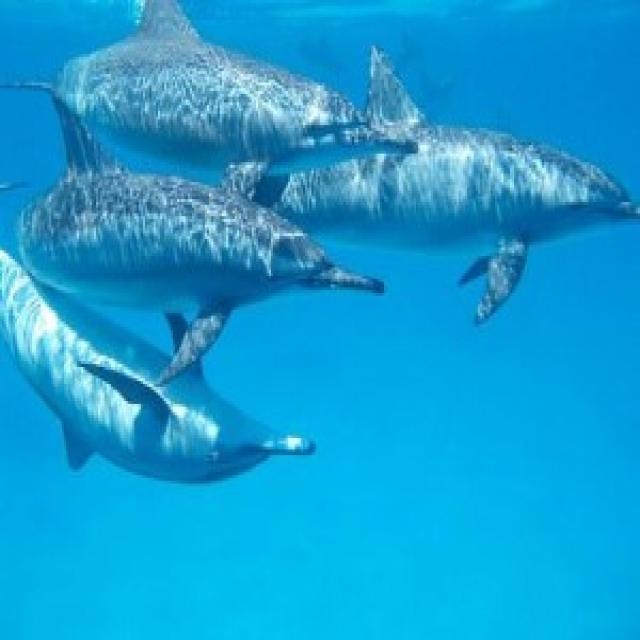Dolphin: (0, 99, 380, 305), (409, 43, 640, 317), (78, 0, 428, 166), (0, 286, 287, 484)
